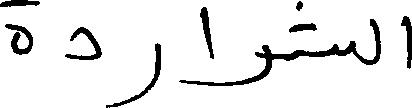X: (107, 38, 160, 107), (299, 0, 352, 61), (228, 40, 269, 90), (0, 0, 30, 59), (67, 22, 97, 64), (202, 2, 211, 90), (403, 11, 411, 73), (371, 14, 379, 69)
